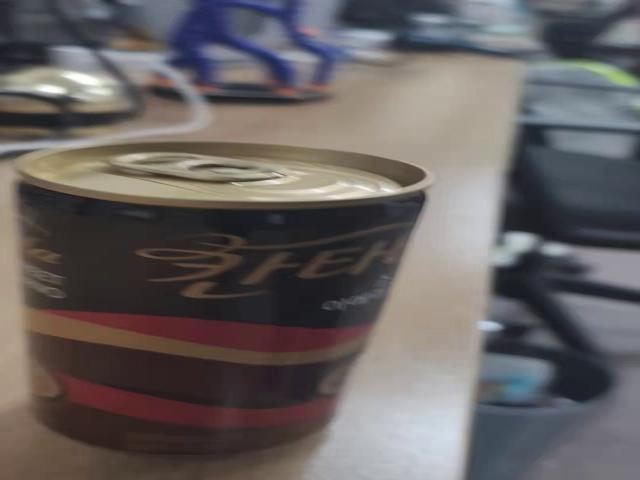Canned_drinks: (8, 144, 381, 456)
